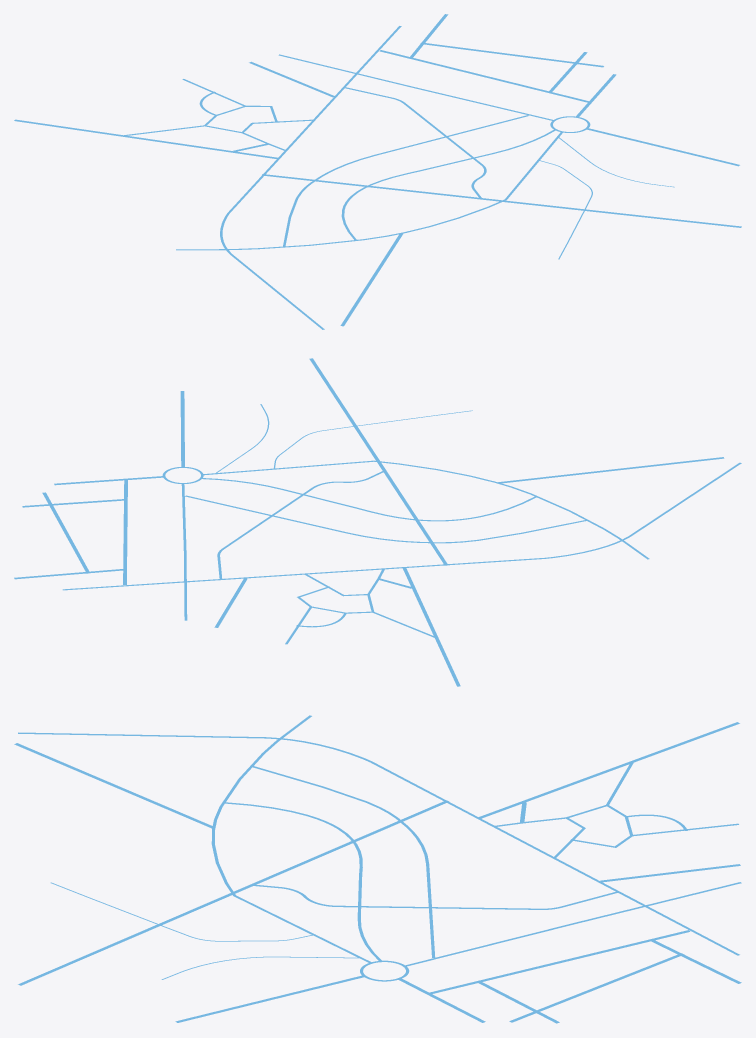
The model's file is Circulation.gltf.
The picture shows the model from 3 angles, top to bottom: view 1: azimuth 30°, elevation 25°; view 2: azimuth 150°, elevation 25°; view 3: azimuth 270°, elevation 25°; orthographic projection. The views are drawn at different scales.
Visible parts, largest first — view 1: Circulation; view 2: Circulation; view 3: Circulation.
Boxes of the visible parts, box(x1,y1,x2,y2) form: Circulation: box(14, 14, 741, 329); Circulation: box(14, 358, 741, 686); Circulation: box(14, 715, 741, 1023).
Size of the model in its own units: 636 by 1.56e-13 by 635.
